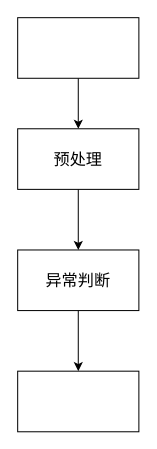
Some shapes in this 157 by 449 pixel diagram are drawn without their labels. The shapes that lost their labels are listed below. From the top down, each one's centre as x and y in pixels, then its label:
point (78, 47): 点云下载
point (78, 401): 点云计算
